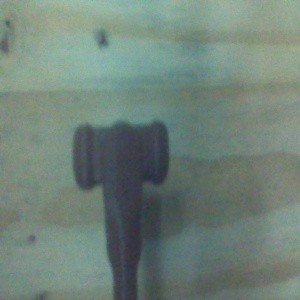palu: (72, 118, 170, 300)
